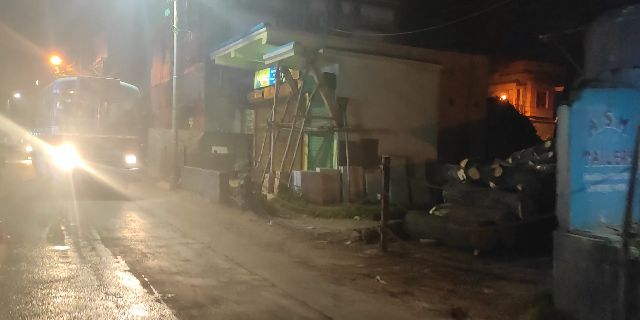Bus: (45, 72, 147, 189)
